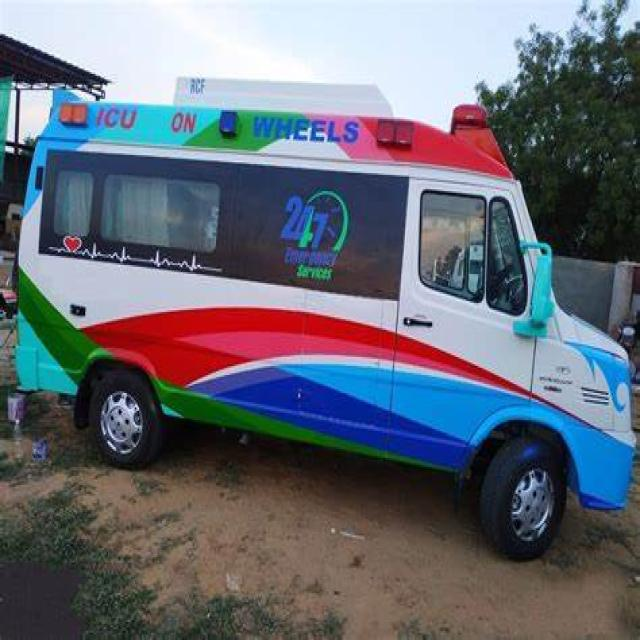ambulance: (422, 70, 507, 172)
